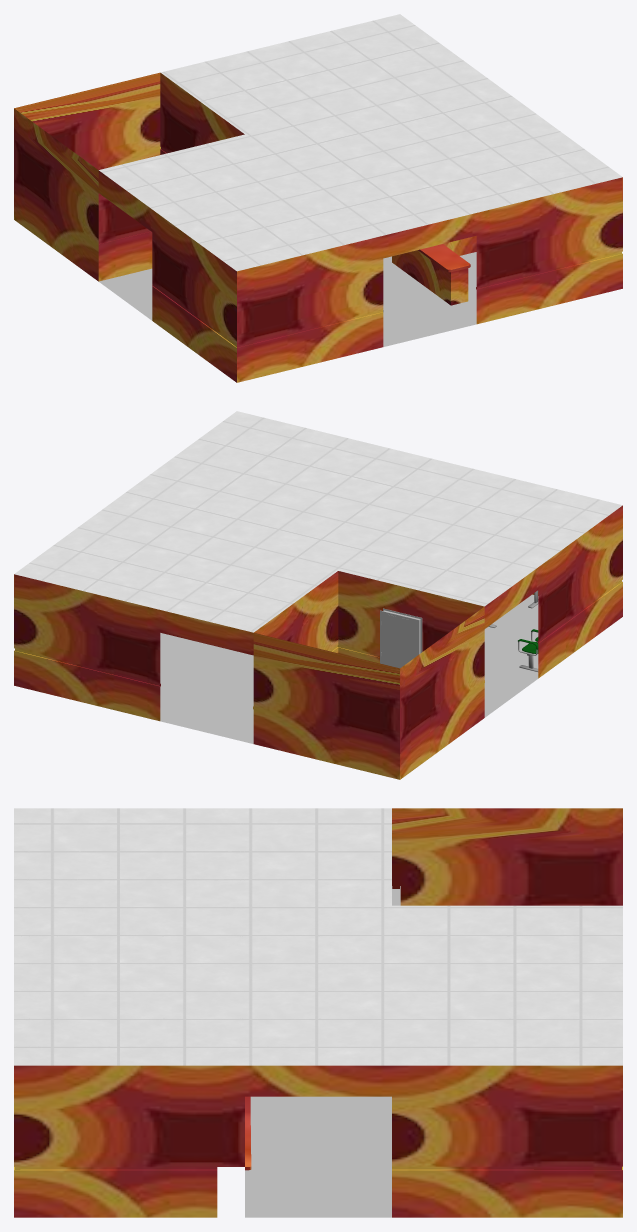
Rendered from Hub.001.fbx.
3 renders of one model, top to bottom at view 1: azimuth 30°, elevation 25°; view 2: azimuth 150°, elevation 25°; view 3: azimuth 270°, elevation 25°, orthographic. The views are drawn at different scales.
Parts seen in each view (by area): view 1: Room.001; view 2: Room.001, Chairs; view 3: Room.001.
Part boxes in pixels (x1,y1,x2,y2): Room.001: (14, 14, 622, 382); Room.001: (14, 411, 622, 779); Chairs: (488, 590, 538, 671); Room.001: (14, 808, 622, 1217).
Bounding box in the file's own units: 1000 × 276 × 1000.
